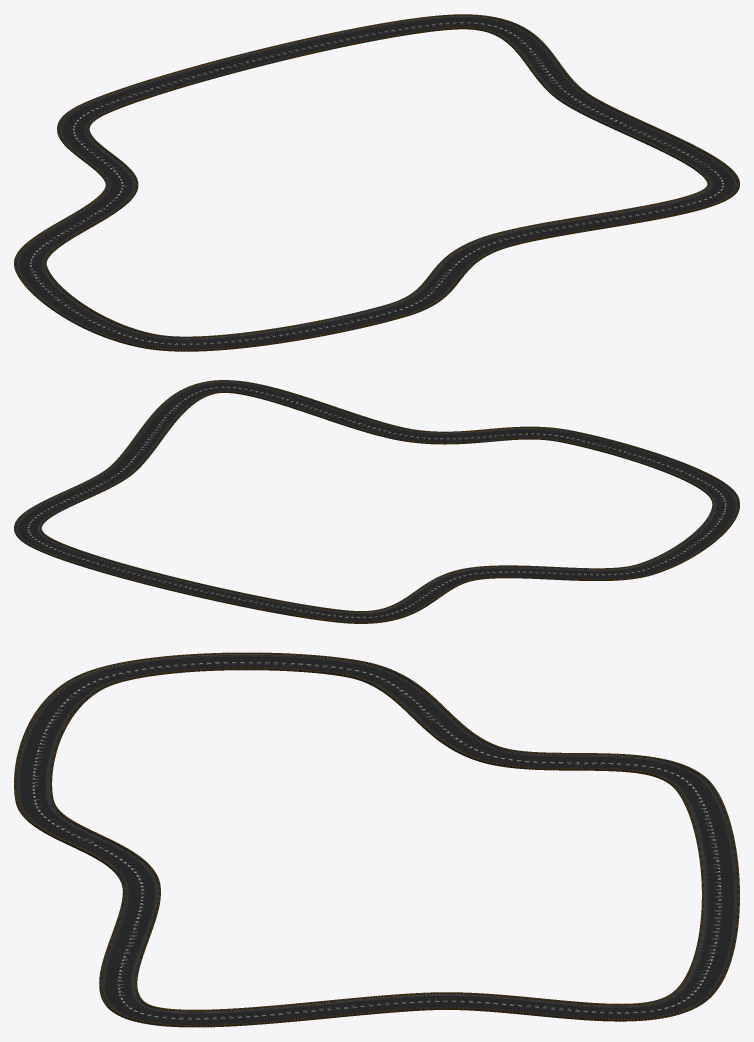
The model's file is pista.fbx.
3 renders of one model, top to bottom at view 1: azimuth 30°, elevation 25°; view 2: azimuth 150°, elevation 25°; view 3: azimuth 270°, elevation 25°, orthographic. The views are drawn at different scales.
Visible parts, largest first — view 1: Track02; view 2: Track02; view 3: Track02.
Boxes of the visible parts, left/top/right/bottom form: Track02: left=14, top=14, right=739, bottom=351; Track02: left=14, top=380, right=739, bottom=623; Track02: left=14, top=652, right=739, bottom=1027.
Bounding box in the file's own units: 3223 × 6.84 × 2649.
Materials: 1 (1 with a texture image).
